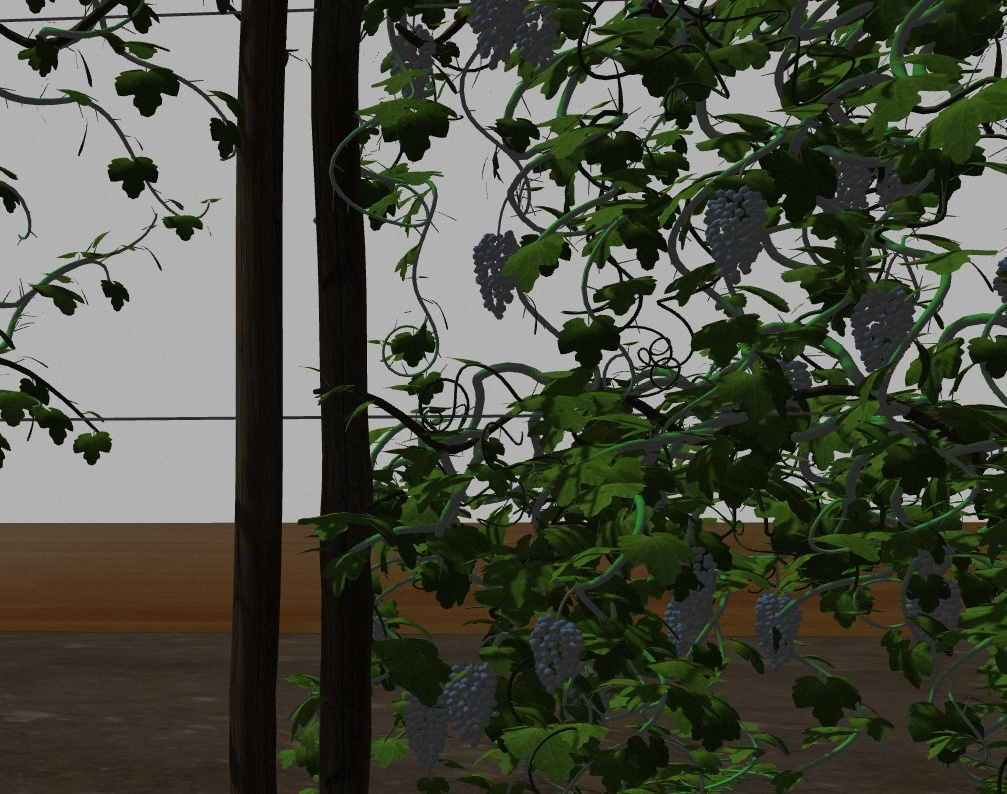grape: (704, 184, 769, 285), (849, 280, 919, 372), (526, 615, 586, 695), (473, 232, 524, 320), (447, 661, 498, 748), (468, 1, 525, 70), (754, 595, 804, 670), (401, 695, 449, 765), (393, 24, 435, 99), (663, 601, 709, 658), (519, 7, 564, 65), (831, 152, 872, 214), (684, 545, 717, 605)
